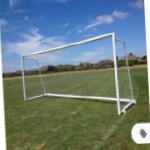goals: (19, 30, 140, 117)
